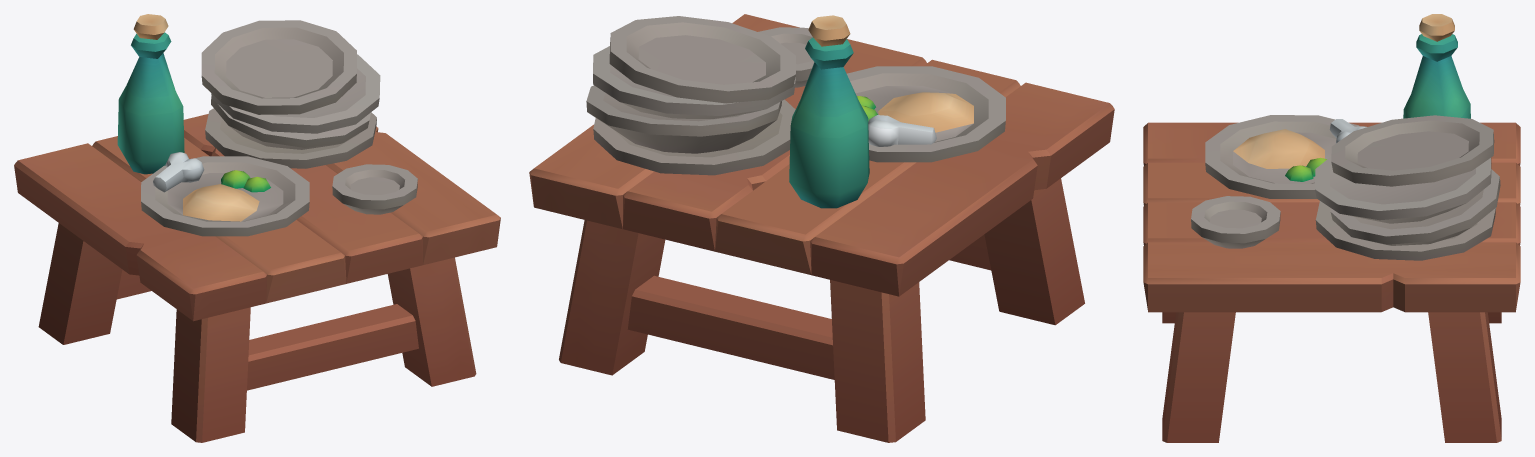
Rendered from d_kaykit_table_garnie.glb.
3 renders of one model, left to right at view 1: azimuth 30°, elevation 25°; view 2: azimuth 150°, elevation 25°; view 3: azimuth 270°, elevation 25°, orthographic. The views are drawn at different scales.
Visible parts, largest first — view 1: d_kaykit_table_garnie; view 2: d_kaykit_table_garnie; view 3: d_kaykit_table_garnie.
Boxes of the visible parts, left/top/right/bottom form: d_kaykit_table_garnie: left=14, top=14, right=500, bottom=442; d_kaykit_table_garnie: left=529, top=14, right=1114, bottom=442; d_kaykit_table_garnie: left=1143, top=14, right=1520, bottom=442.
Bounding box in the file's own units: 2 × 1.89 × 2.
1 material, 1 textured.
